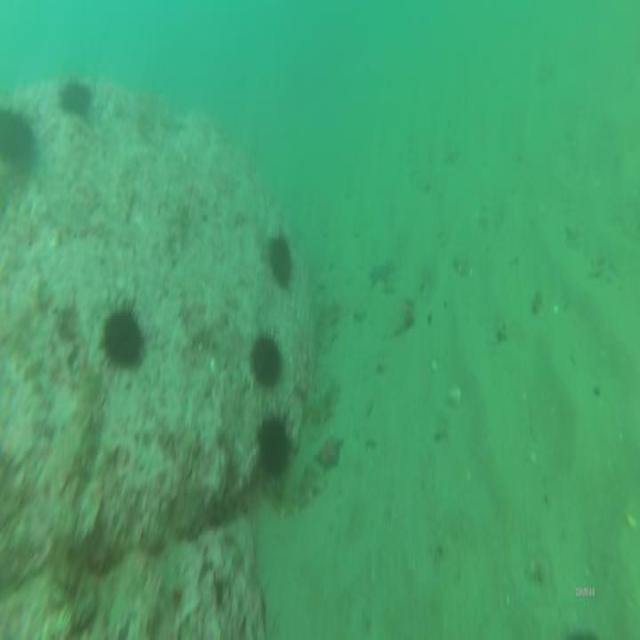echinus: (100, 299, 146, 373), (256, 410, 292, 480), (247, 328, 285, 394), (0, 106, 34, 163), (267, 228, 295, 296), (58, 74, 92, 119)
starfish: (368, 253, 397, 294), (314, 431, 341, 474)
